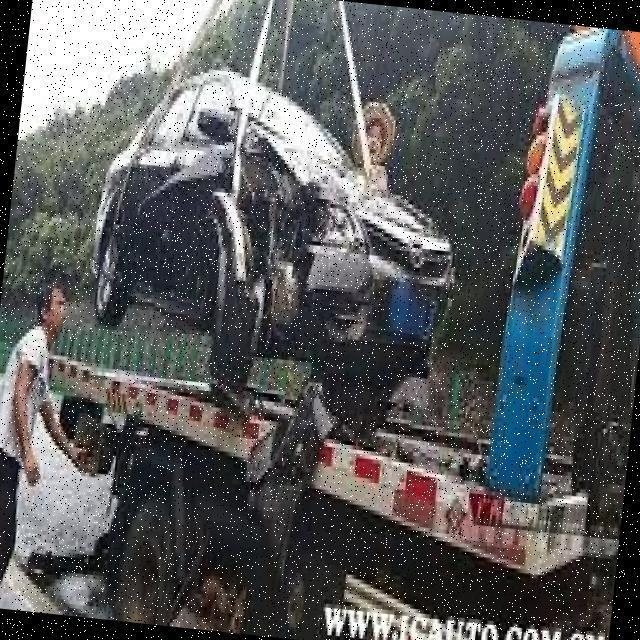accident: (70, 25, 484, 422)
